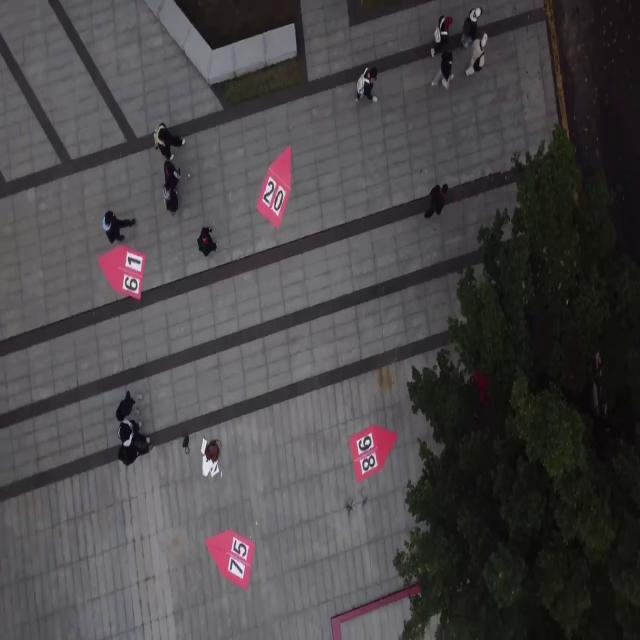-sign-: (256, 144, 292, 230)
